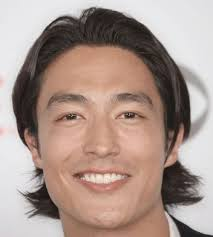asian_male: (8, 1, 174, 223)
